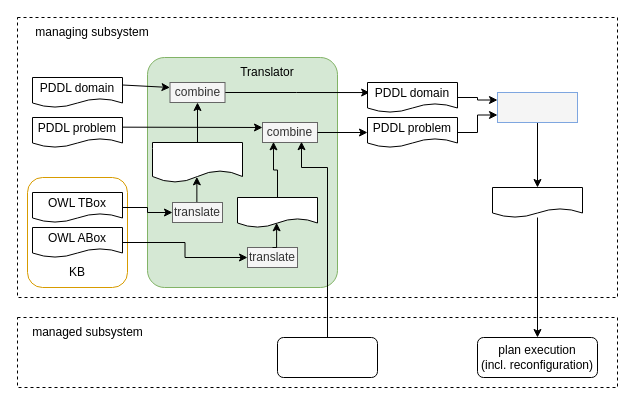
Image size: 635x405. Some labels were removed from this diagram. Here are the shapes that lost their labels. From the top down, the box of each, then its label:
(496, 92, 578, 122): PDDL planner
(152, 142, 242, 182): PDDL derived predicates
(236, 196, 318, 228): PDDL atoms
(492, 186, 582, 218): plan
(276, 336, 378, 378): runtime values
